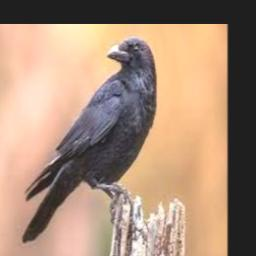Crow: (21, 37, 156, 244)
